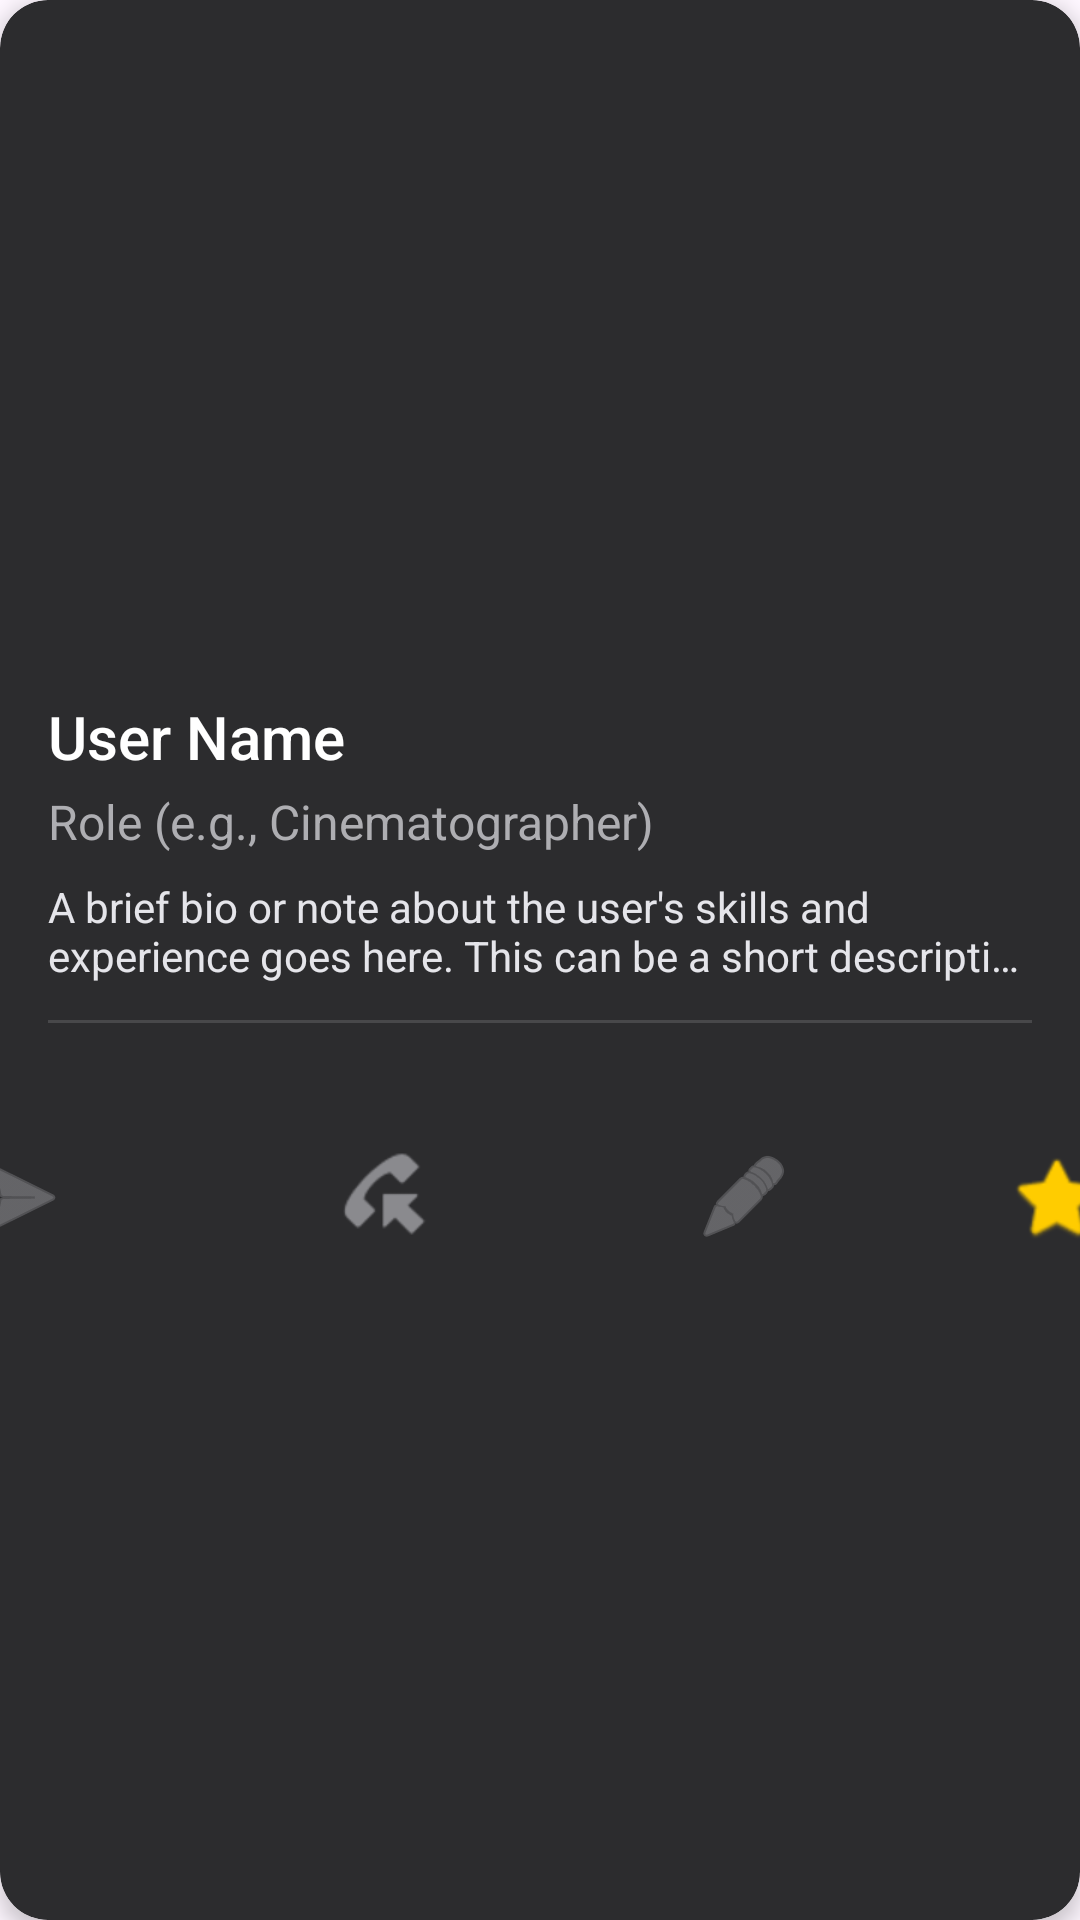

Locate icon controls on the screen. Image size 1080px x 1920px, boxes as detection(x1, y1, x2, y2).
edit: detection(703, 1156, 784, 1237)
sym call incoming: detection(344, 1153, 424, 1234)
